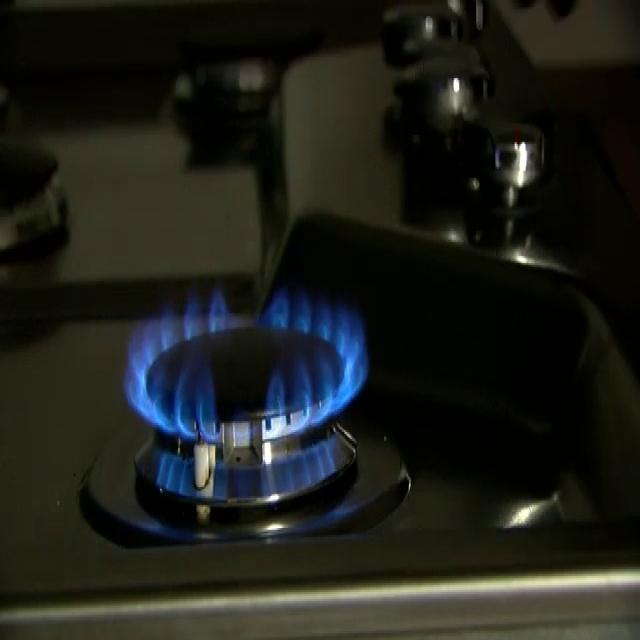fire: (114, 203, 420, 538)
